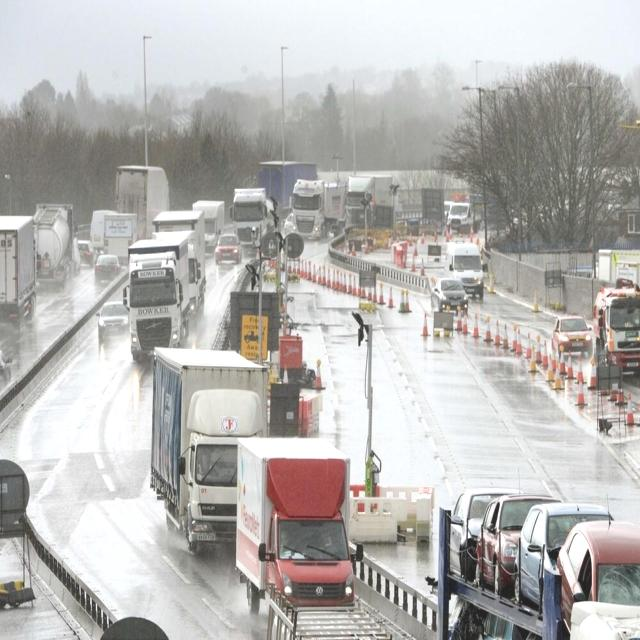Truck: (151, 350, 271, 546), (238, 439, 363, 617), (150, 208, 208, 309), (592, 283, 640, 378), (116, 165, 170, 241), (0, 215, 36, 328), (32, 204, 77, 290), (291, 178, 348, 238), (347, 175, 397, 235), (230, 187, 270, 254), (90, 210, 136, 266), (445, 241, 484, 299), (192, 201, 225, 253), (597, 249, 639, 287)
